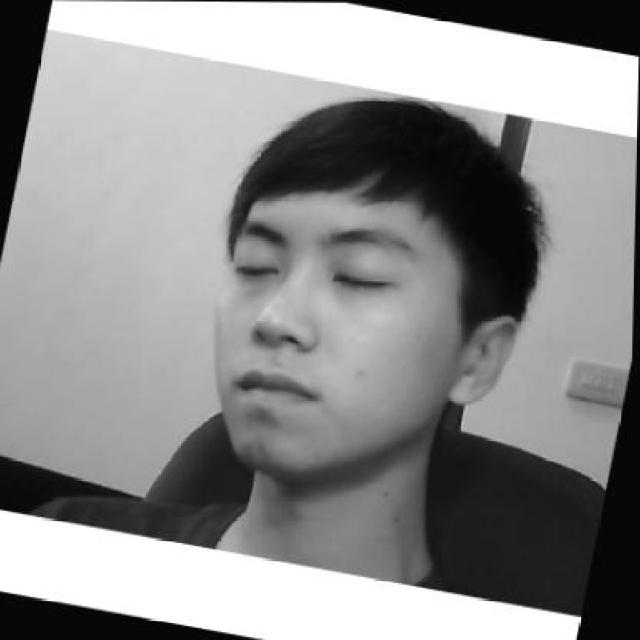inattentif: (184, 69, 558, 508)
